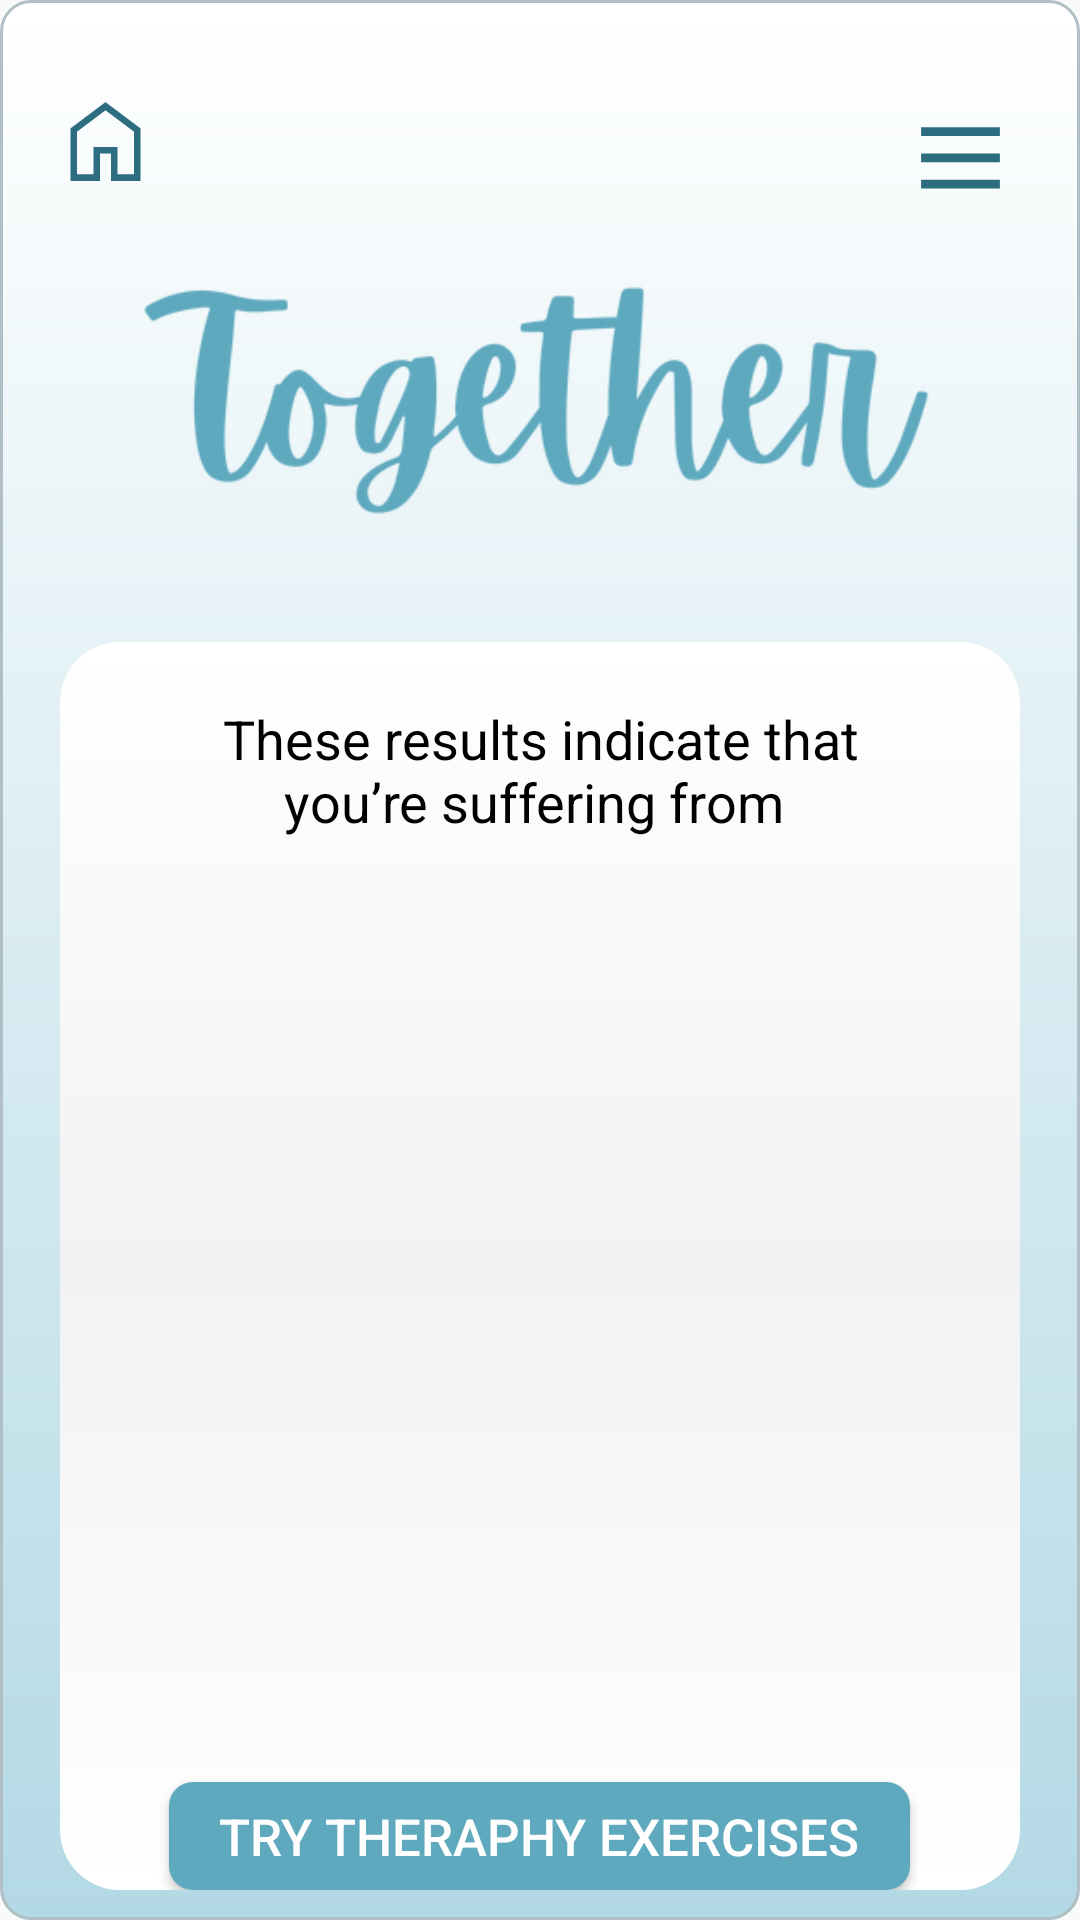

Named icons in this screenshot (1080w x 1920h) and their bounding boxes, (x1, y1, x2, y2):
hamburger: (921, 127, 1000, 189)
homebutton: (70, 102, 141, 181)
